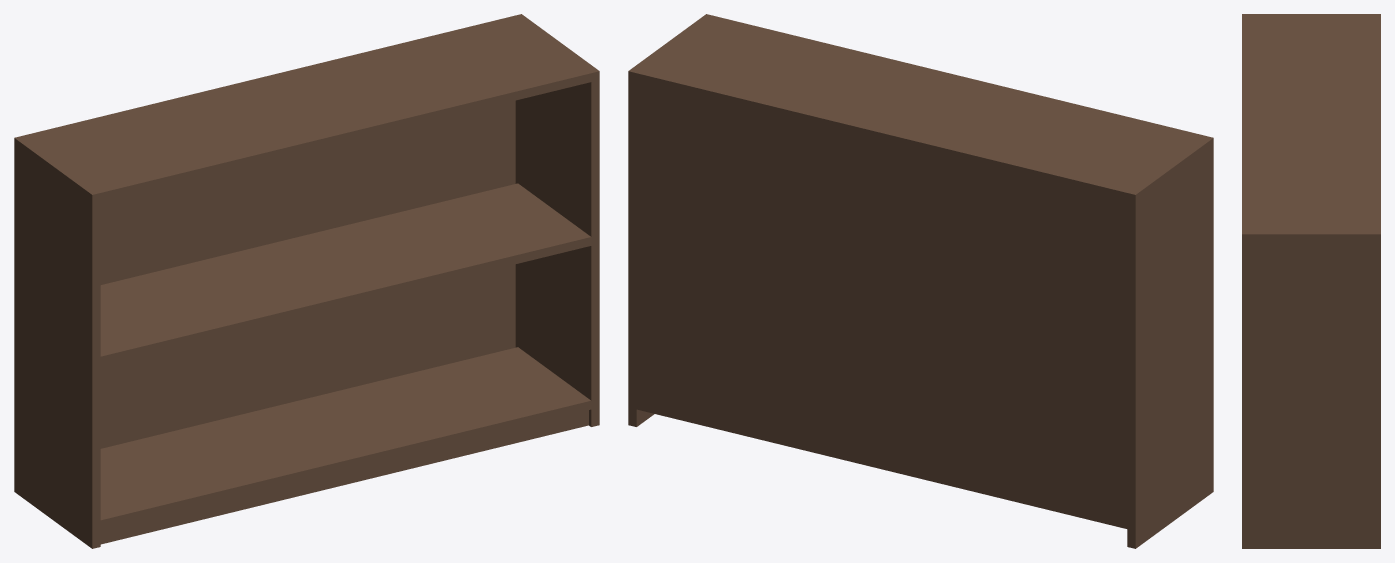
The model's file is bedroom-low-bookcase.glb.
The picture shows the model from 3 angles, left to right: view 1: azimuth 30°, elevation 25°; view 2: azimuth 150°, elevation 25°; view 3: azimuth 270°, elevation 25°; orthographic projection. The views are drawn at different scales.
Visible parts, largest first — view 1: wood; view 2: wood; view 3: wood.
Part boxes in pixels (<box>): wood: <box>14,14,599,548</box>; wood: <box>628,14,1213,548</box>; wood: <box>1242,14,1380,548</box>.
Bounding box in the file's own units: 1.2 × 0.8 × 0.32.
